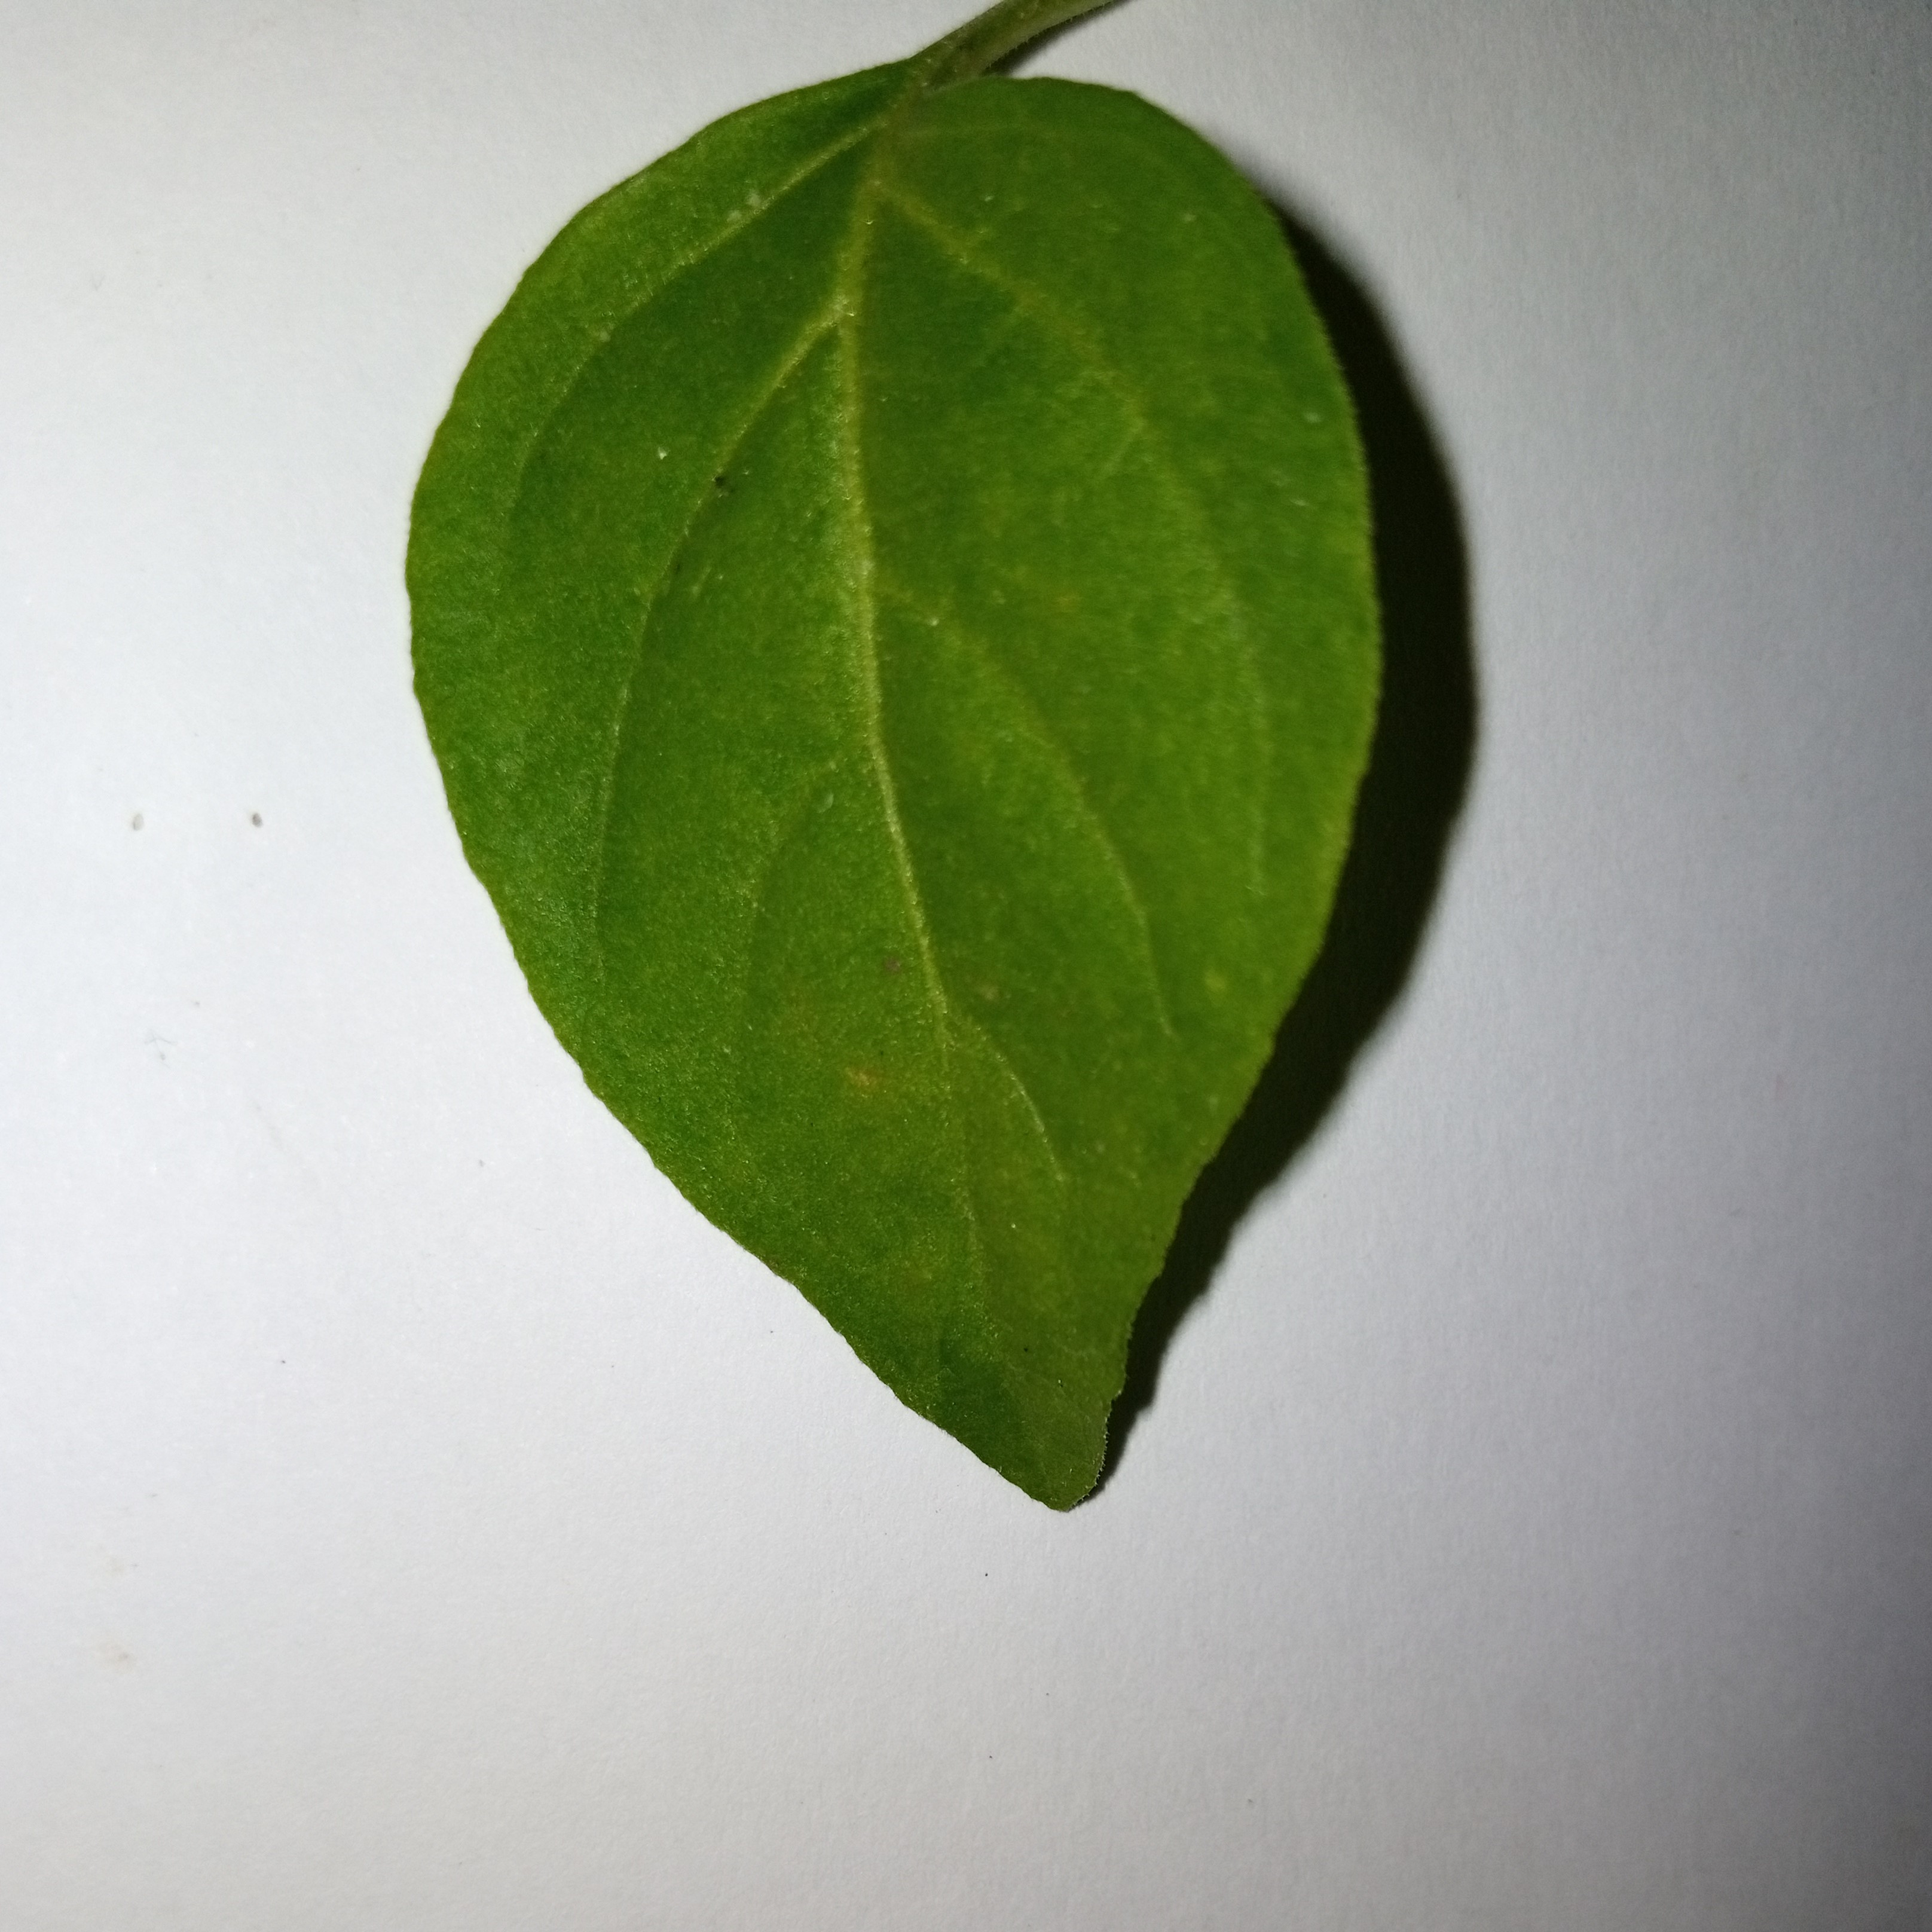Leaf: (324, 21, 1569, 1573)
